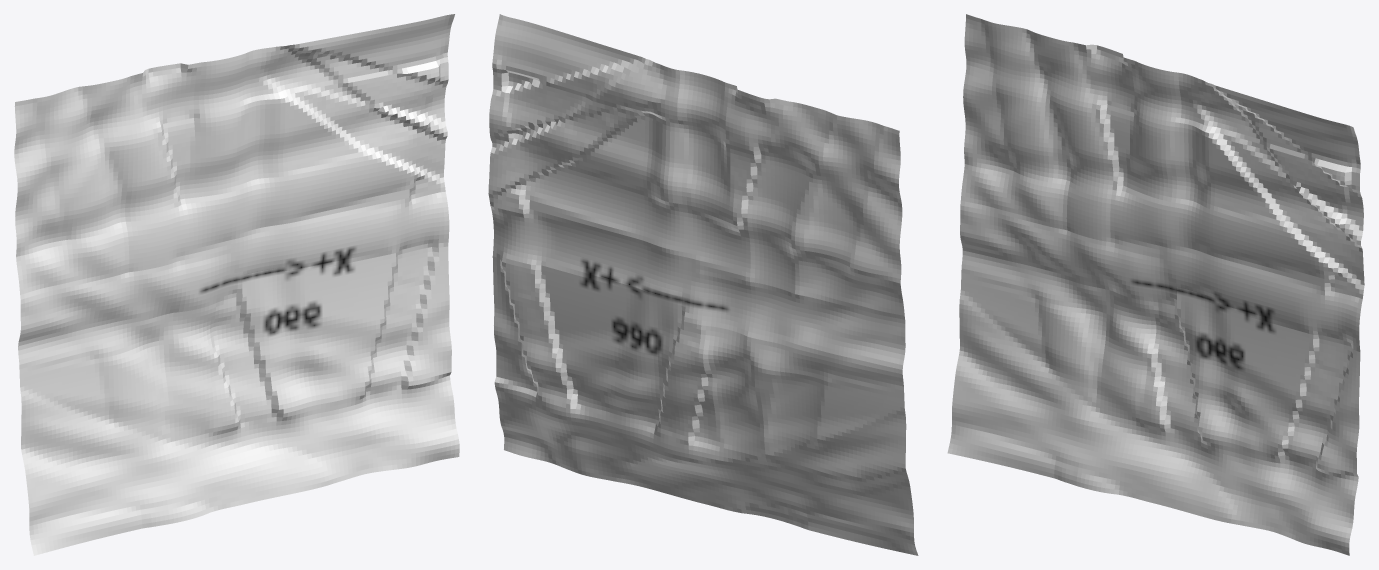
The picture shows the model from 3 angles, left to right: view 1: azimuth 30°, elevation 25°; view 2: azimuth 150°, elevation 25°; view 3: azimuth 330°, elevation 25°; orthographic projection. The views are drawn at different scales.
Visible parts, largest first — view 1: Ground066; view 2: Ground066; view 3: Ground066.
Boxes of the visible parts, x1=… form: Ground066: x1=14, y1=14, x2=459, y2=555; Ground066: x1=488, y1=14, x2=918, y2=555; Ground066: x1=947, y1=14, x2=1364, y2=555.
Size of what is drawn, in the model's own units: 100 by 10.54 by 100.
Materials: 1 (1 with a texture image).
